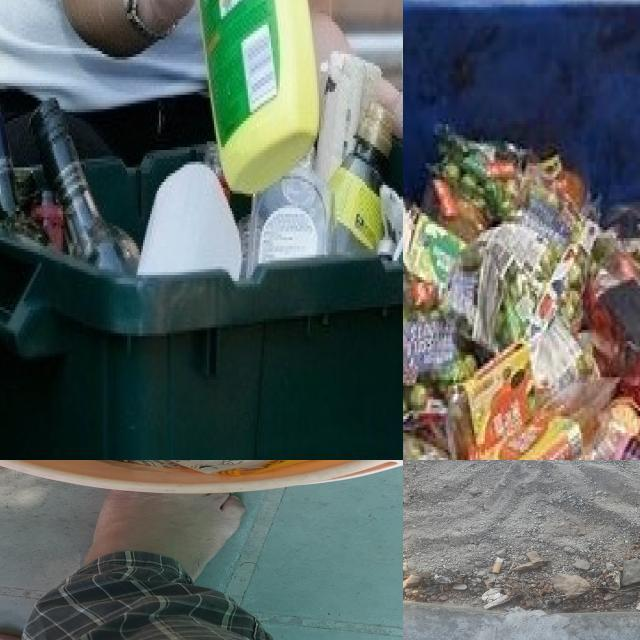Background: (403, 460, 640, 613)
Cig_bud: (492, 557, 505, 574)
Garbage: (0, 0, 403, 278), (403, 126, 640, 460)
Glass_bottle: (32, 103, 138, 273), (329, 104, 392, 253), (0, 107, 17, 218)
Plastic_Bag: (473, 221, 551, 351), (530, 318, 582, 392), (403, 318, 457, 385)
Plastic_Container: (202, 0, 318, 194), (138, 163, 239, 280), (249, 167, 326, 273)
